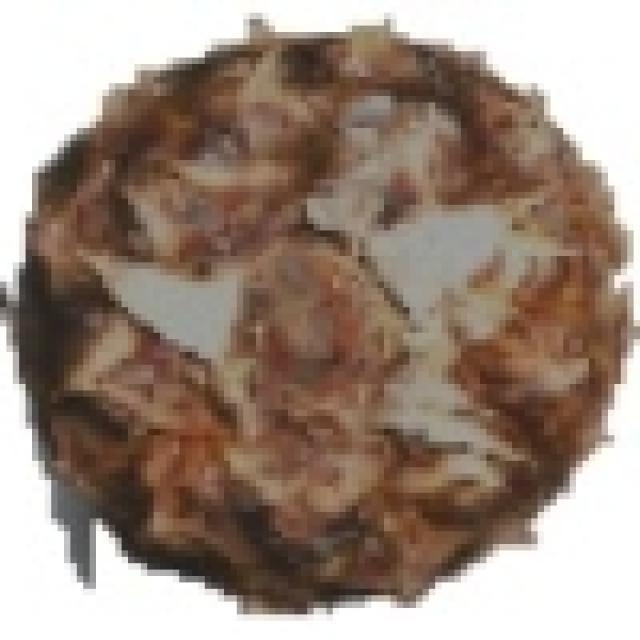pineapple: (32, 13, 634, 595)
